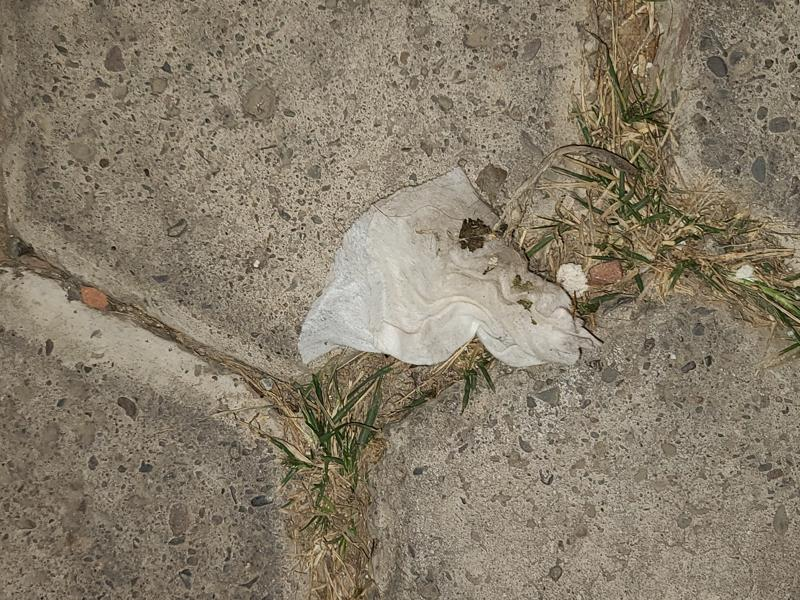papel: (298, 167, 586, 370)
